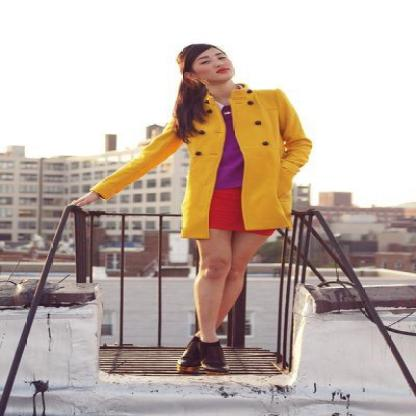jacket: (94, 83, 311, 239)
shirt: (214, 125, 244, 188)
shoe: (162, 341, 275, 375)
skirt: (208, 186, 261, 240)
